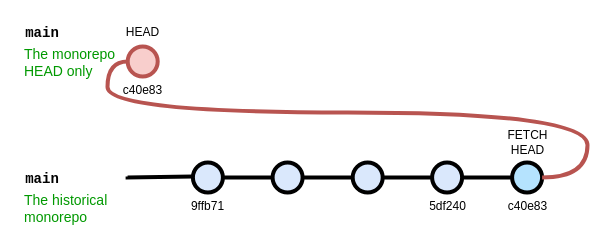
Some shapes in this 606 by 244 pixel diagram are drawn without their labels. Here are the shapes that lost their labels. From the top down, the box of each, then its label:
(270, 160, 304, 194): 81ddef
(350, 160, 384, 194): e49307
